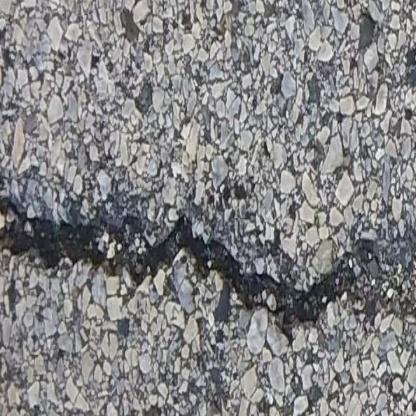Cracks: (0, 168, 416, 378)
